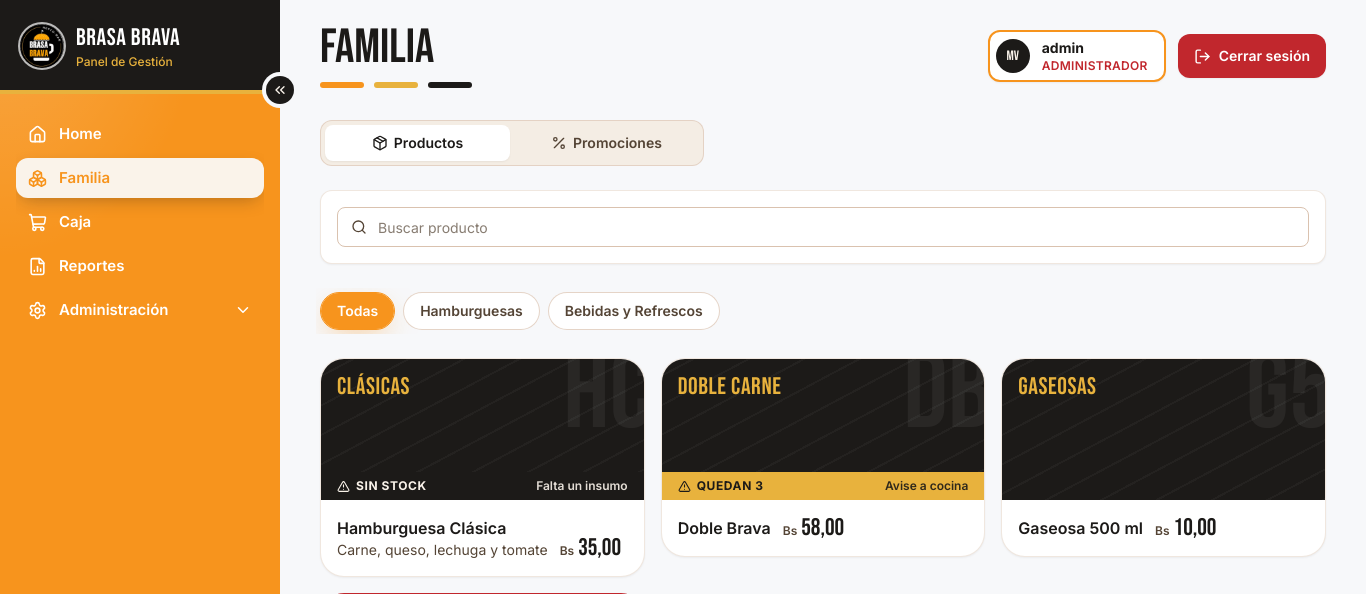
Familia: catálogo del local › muestra las promociones con cuándo aplican, su precio y sus productos
Expected: the button with aria-label "Ver Doble Brava" is shown, [661,358,985,557]
Click the radio button labelled "Promociones" at coordinates (606, 143), box [514,125,699,161]
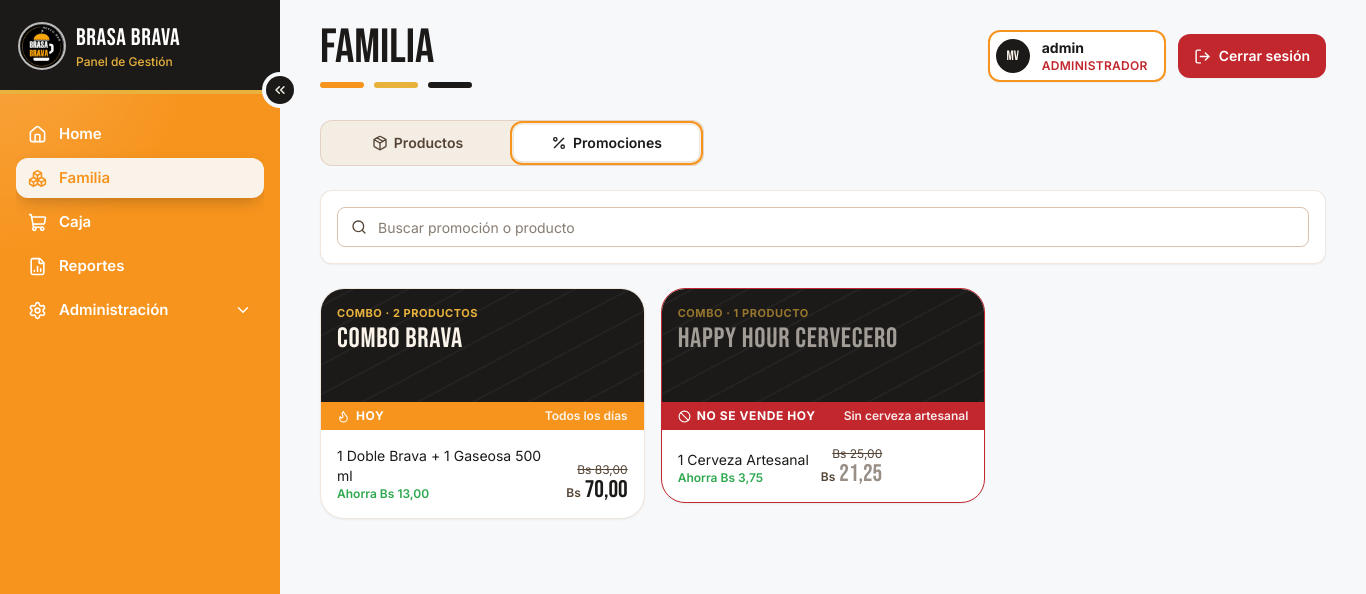
Now the text "Hoy" is shown, box [337,408,384,424]
Now the text "Ahorra Bs 13,00" is shown, box [337,486,429,501]
Now the text "Sin cerveza artesanal" is shown, box [844,408,968,424]
Type "cerveza" into the search field at coordinates (823, 227), box [337,207,1309,247]
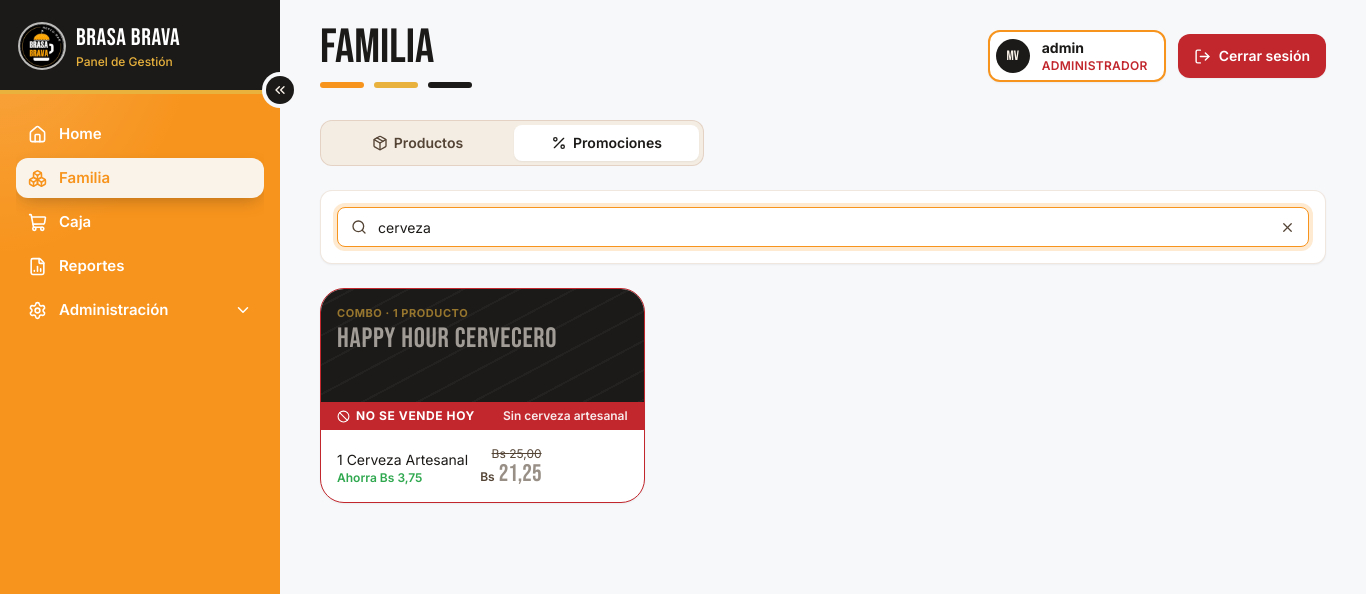
Click the button with aria-label "Ver Happy Hour Cervecero" at coordinates (482, 396), box [320,288,645,503]
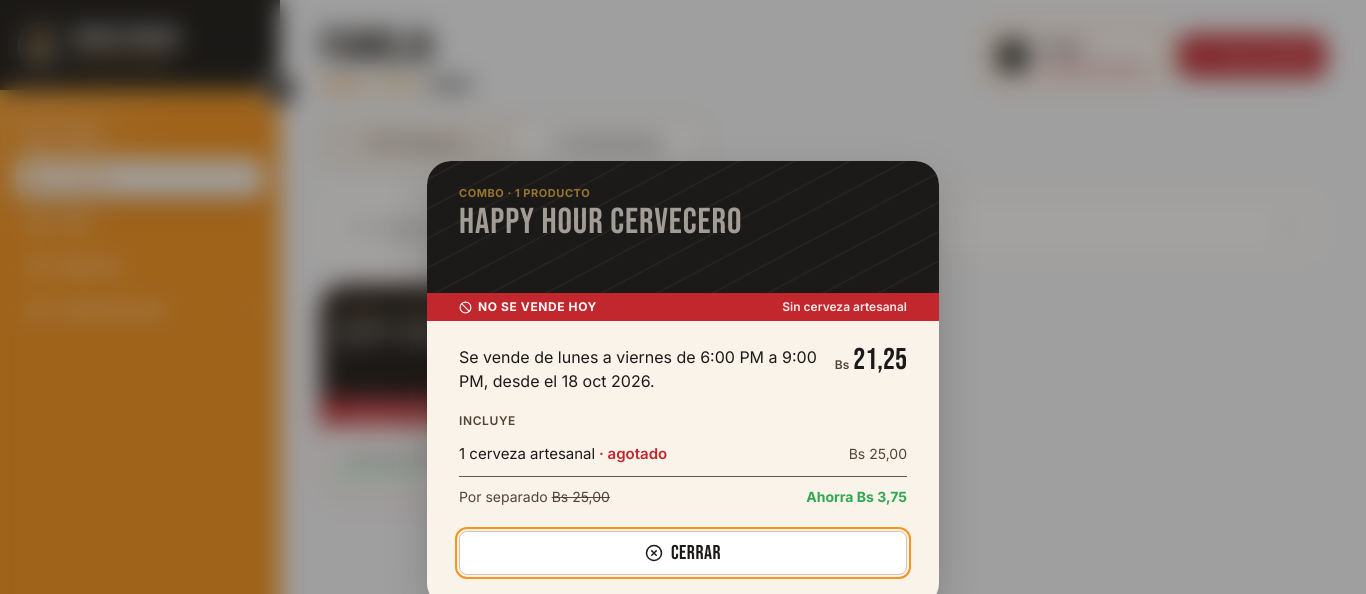
Now the text "Se vende de lunes a viernes de 6:00 PM a 9:00 PM, desde el 18 oct 2026." is shown, box [459,345,819,393]
Now the text "No se vende hoy" is shown, box [459,299,597,315]
Now the list item reads "1 cerveza artesanal · agotado Bs 25,00", box [459,444,907,463]
